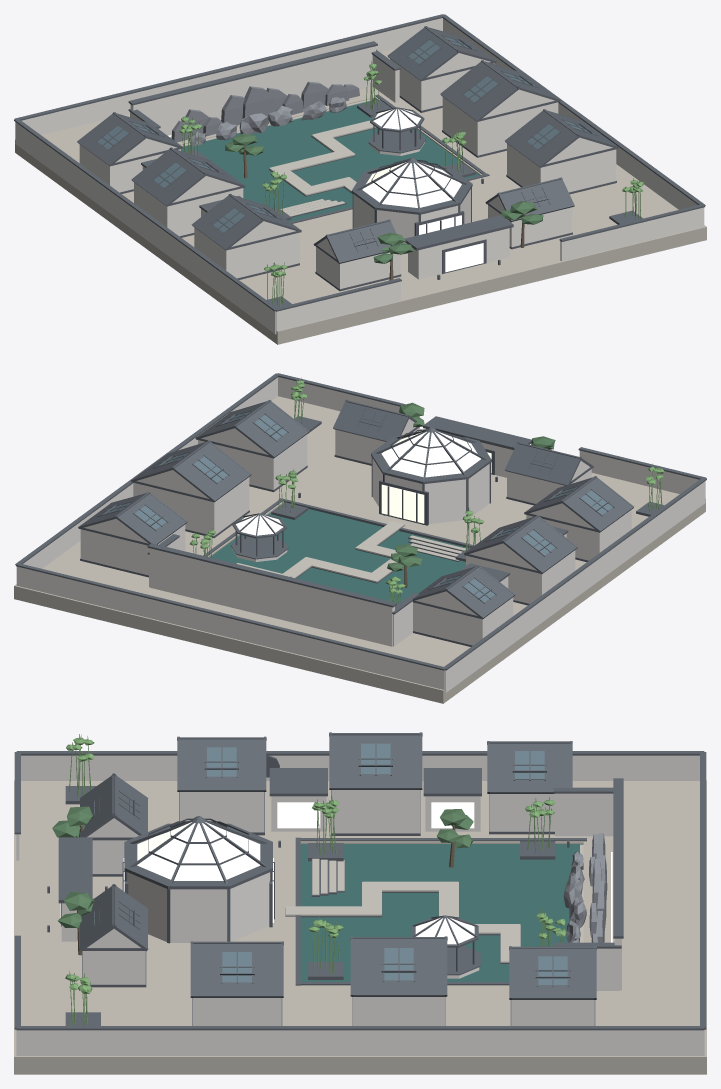
File: suzhou_museum.glb
3 views of the same model, one above another, from view 1: azimuth 30°, elevation 25°; view 2: azimuth 150°, elevation 25°; view 3: azimuth 270°, elevation 25° (orthographic). The views are drawn at different scales.
Parts seen in each view (by area): view 1: SuzhouMuseum_pei_white, SuzhouMuseum_pei_granite, SuzhouMuseum_courtyard, SuzhouMuseum_water, SuzhouMuseum_pei_stone, SuzhouMuseum_emissive_warm, SuzhouMuseum_stone_light, SuzhouMuseum_pei_glass, SuzhouMuseum_bamboo, SuzhouMuseum_pine, SuzhouMuseum_emissive_win; view 2: SuzhouMuseum_pei_white, SuzhouMuseum_pei_granite, SuzhouMuseum_courtyard, SuzhouMuseum_water, SuzhouMuseum_emissive_warm, SuzhouMuseum_stone_light, SuzhouMuseum_pei_glass, SuzhouMuseum_bamboo, SuzhouMuseum_pine, SuzhouMuseum_emissive_win; view 3: SuzhouMuseum_courtyard, SuzhouMuseum_pei_granite, SuzhouMuseum_pei_white, SuzhouMuseum_water, SuzhouMuseum_emissive_warm, SuzhouMuseum_pei_glass, SuzhouMuseum_stone_light, SuzhouMuseum_bamboo, SuzhouMuseum_pei_stone, SuzhouMuseum_pine, SuzhouMuseum_emissive_win.
Boxes of the visible parts, x1,y1,x2,y2 form: SuzhouMuseum_pei_white: (15, 18, 704, 334); SuzhouMuseum_pei_granite: (14, 14, 705, 311); SuzhouMuseum_courtyard: (15, 48, 706, 344); SuzhouMuseum_water: (181, 99, 479, 221); SuzhouMuseum_pei_stone: (171, 81, 359, 146); SuzhouMuseum_emissive_warm: (168, 109, 461, 207); SuzhouMuseum_stone_light: (181, 99, 375, 216); SuzhouMuseum_pei_glass: (97, 36, 594, 232); SuzhouMuseum_bamboo: (179, 60, 643, 307); SuzhouMuseum_pine: (225, 133, 543, 263); SuzhouMuseum_emissive_win: (419, 215, 483, 272); SuzhouMuseum_pei_white: (16, 377, 705, 693); SuzhouMuseum_pei_granite: (15, 373, 706, 670); SuzhouMuseum_courtyard: (14, 396, 705, 703); SuzhouMuseum_water: (210, 508, 467, 604); SuzhouMuseum_emissive_warm: (236, 431, 480, 535); SuzhouMuseum_stone_light: (236, 521, 465, 582); SuzhouMuseum_pei_glass: (101, 411, 612, 602); SuzhouMuseum_bamboo: (189, 377, 664, 603); SuzhouMuseum_pine: (387, 402, 555, 571); SuzhouMuseum_emissive_win: (381, 452, 491, 523); SuzhouMuseum_courtyard: (14, 780, 706, 1074); SuzhouMuseum_pei_granite: (14, 732, 706, 1030); SuzhouMuseum_pei_white: (16, 755, 704, 1055); SuzhouMuseum_water: (300, 844, 583, 981); SuzhouMuseum_emissive_warm: (137, 822, 612, 944); SuzhouMuseum_pei_glass: (207, 743, 567, 984); SuzhouMuseum_stone_light: (285, 844, 583, 962); SuzhouMuseum_bamboo: (65, 734, 566, 1025); SuzhouMuseum_pei_stone: (563, 833, 607, 942); SuzhouMuseum_pine: (52, 806, 473, 929); SuzhouMuseum_emissive_win: (60, 802, 474, 922).
Bounding box in the file's own units: 85.42 × 16.19 × 90.
